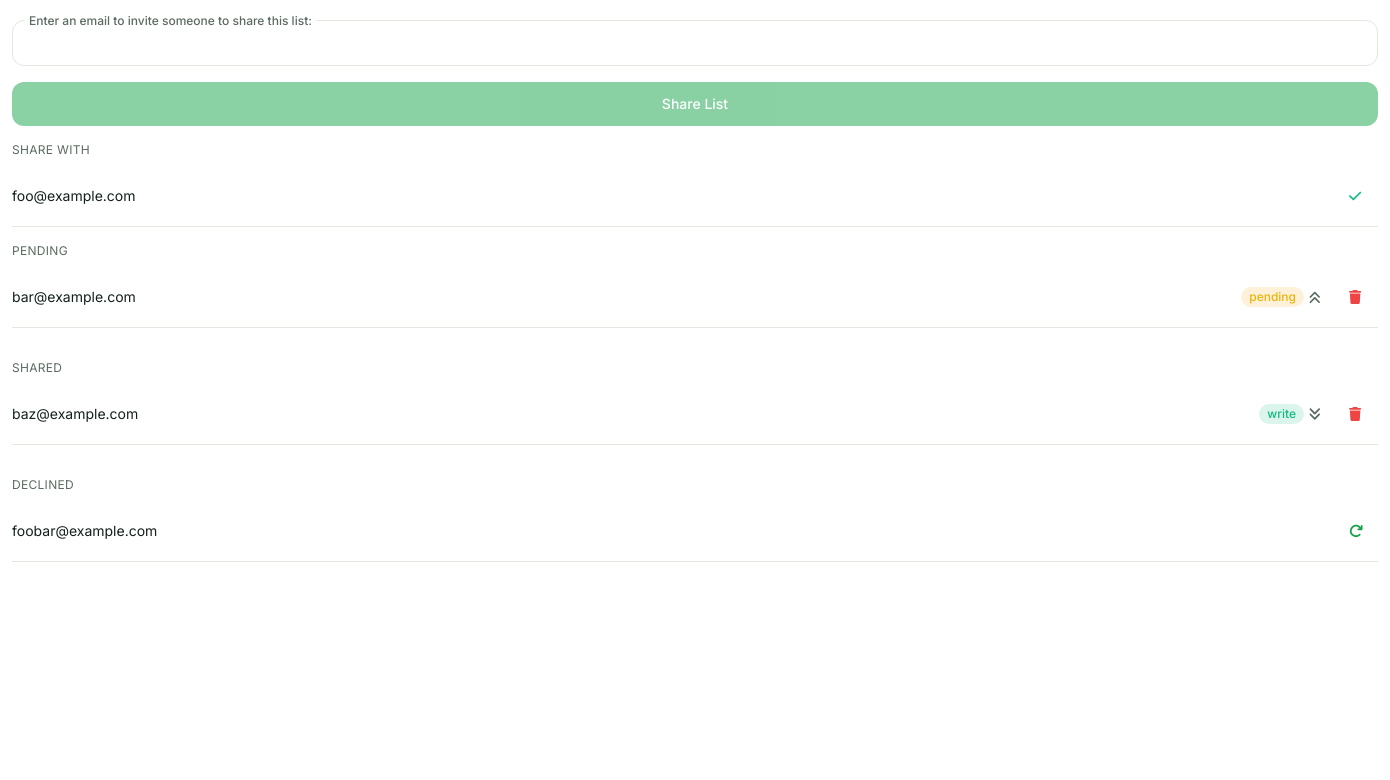
Scenario: ShareListForm › refresh share › refreshes share
The image size is (1390, 780).
Expected: the list item with test id "refused-user-id4" reads "foobar@example.com", [12, 522, 157, 539]
Click the button with test id "refresh-share" at point(1356, 531), box [1334, 509, 1378, 553]
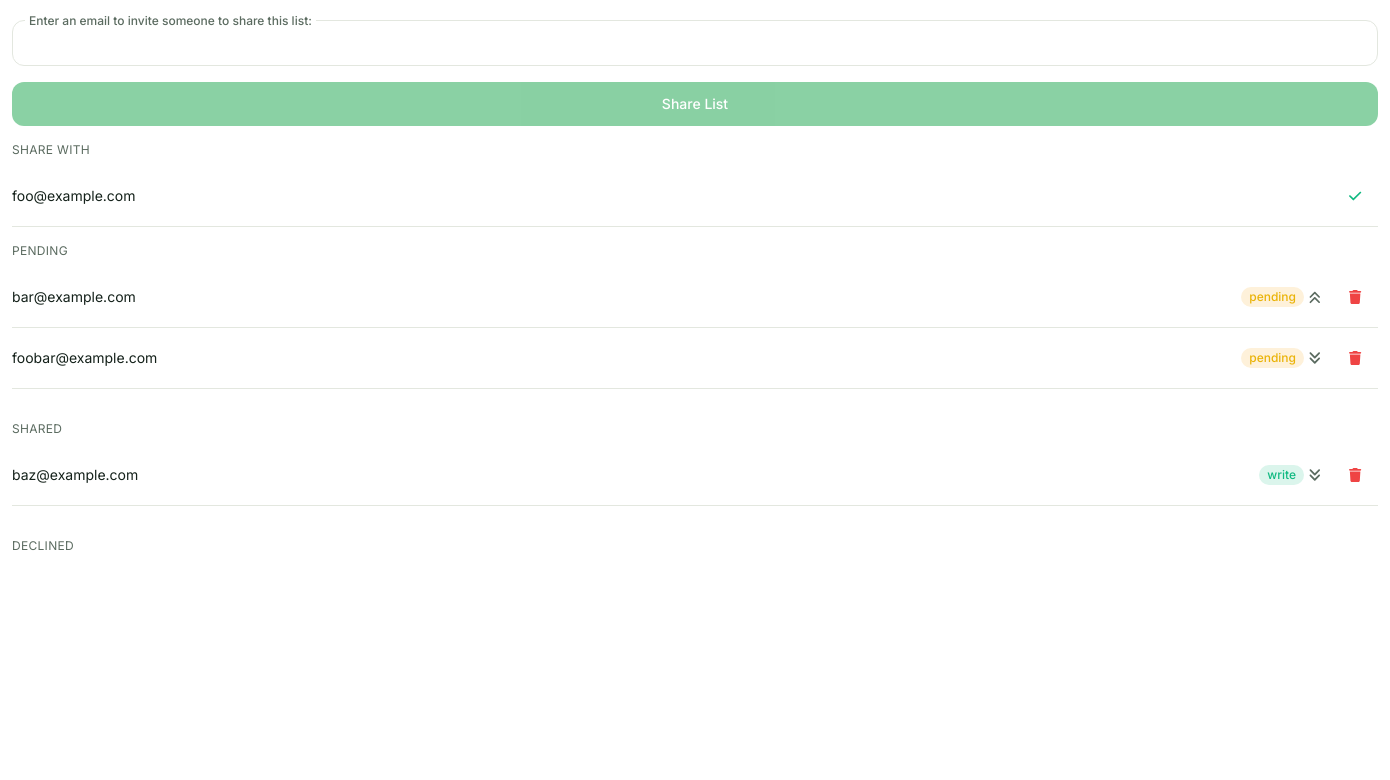
Now the list item with test id "refused-user-id4" is gone
